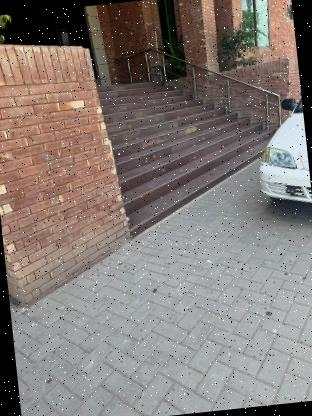stair: (104, 69, 240, 237)
